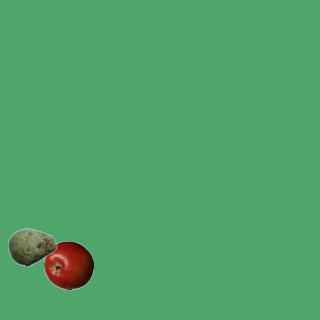Apple Braeburn: (43, 240, 93, 290)
Pear Stone: (7, 222, 57, 272)
